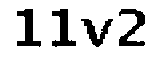1: (10, 4, 44, 54), (48, 5, 78, 52)
2: (117, 3, 149, 54)
v: (80, 13, 112, 48)
